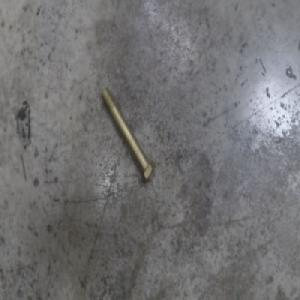Bolt: (100, 85, 156, 185)
